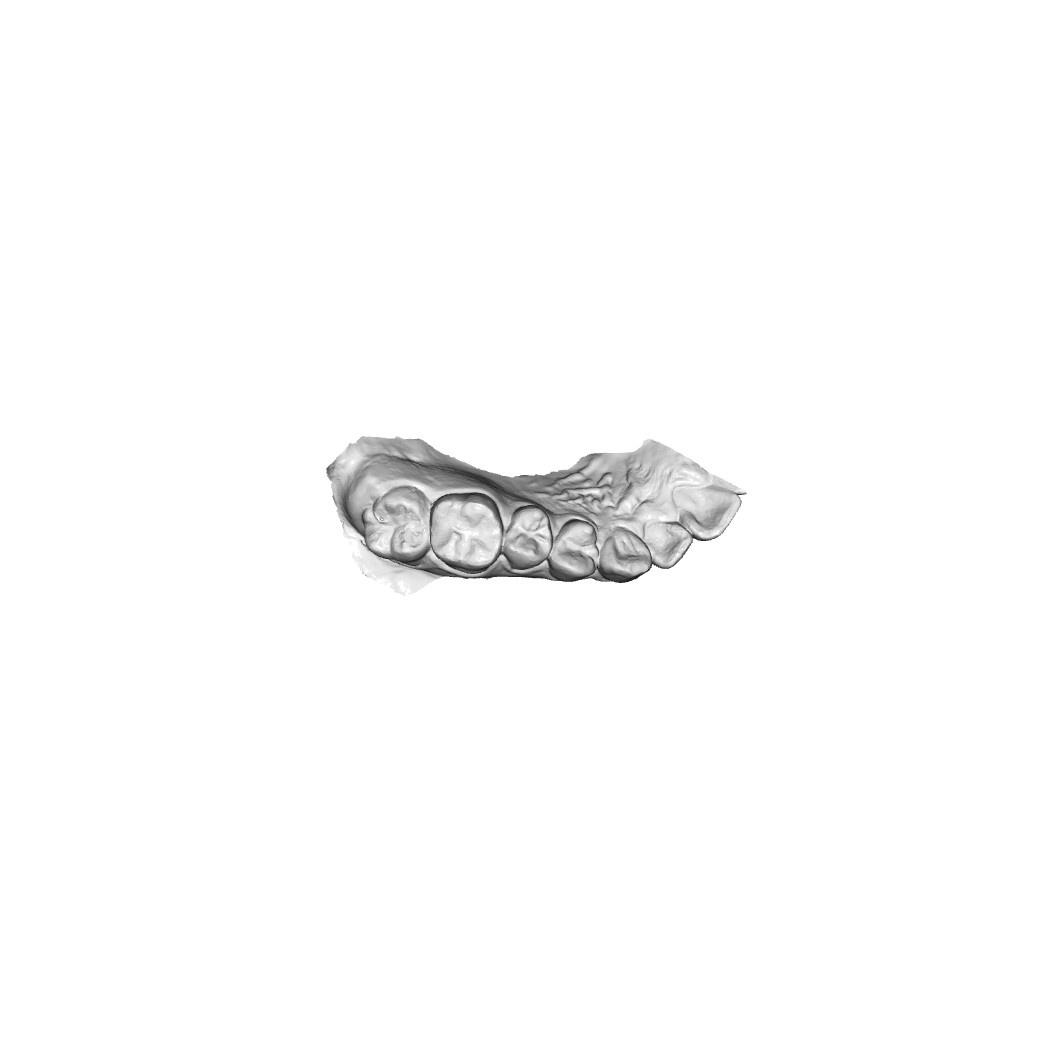canine: (597, 529, 655, 585)
incisor: (678, 485, 744, 544), (646, 517, 694, 572)
molar: (361, 485, 432, 569), (429, 493, 502, 573)
premolar: (501, 506, 554, 572), (548, 515, 597, 582)
